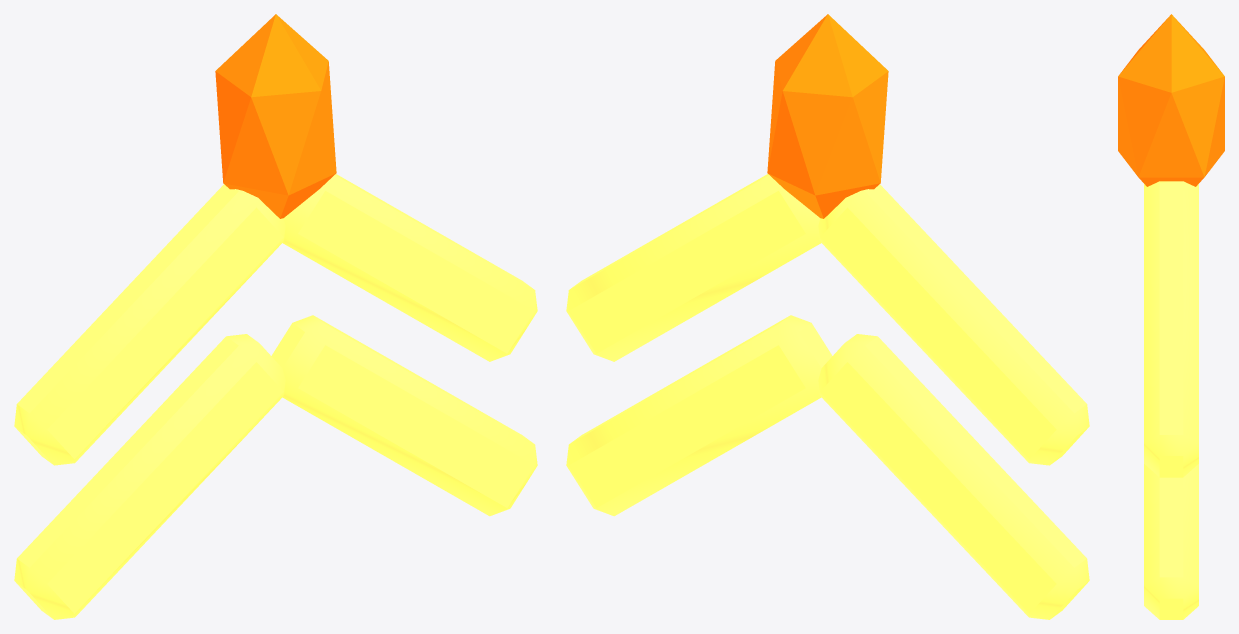
Rendered from fx_tier3_x.glb.
3 renders of one model, left to right at view 1: azimuth 30°, elevation 25°; view 2: azimuth 150°, elevation 25°; view 3: azimuth 270°, elevation 25°, orthographic. The views are drawn at different scales.
Visible parts, largest first — view 1: fx_tier3_x; view 2: fx_tier3_x; view 3: fx_tier3_x.
Part boxes in pixels (box(x1,y1,x2,y2)): fx_tier3_x: box(14, 14, 537, 619); fx_tier3_x: box(566, 14, 1089, 619); fx_tier3_x: box(1118, 14, 1224, 619).
Size of the model in its own units: 0.6921 by 0.7102 by 0.1361.
